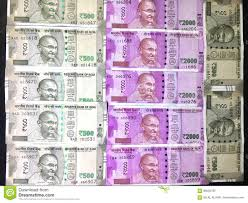twoThousand: (114, 36, 200, 65)
